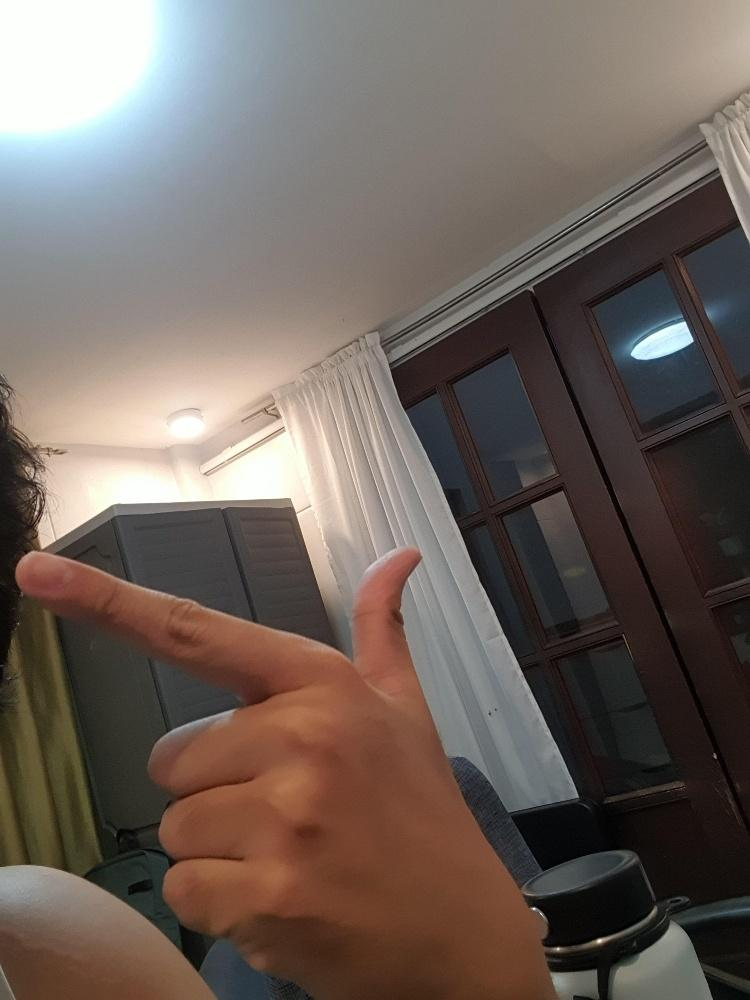g: (11, 542, 558, 999)
